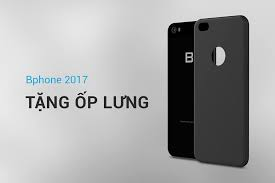bphone: (164, 12, 252, 167)
